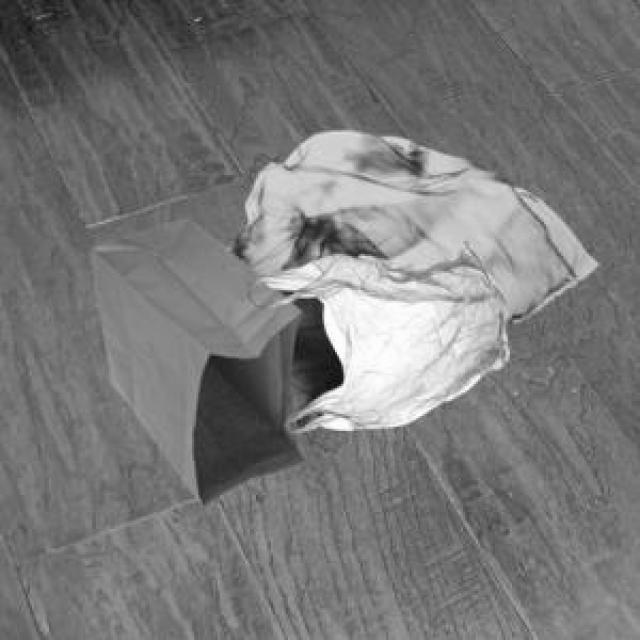paper: (88, 216, 301, 501)
